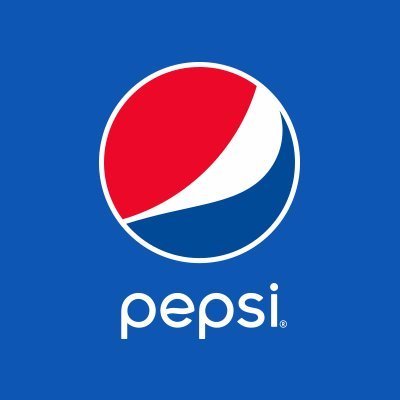pepsi: (90, 55, 302, 263), (97, 55, 302, 263), (97, 57, 302, 263)
